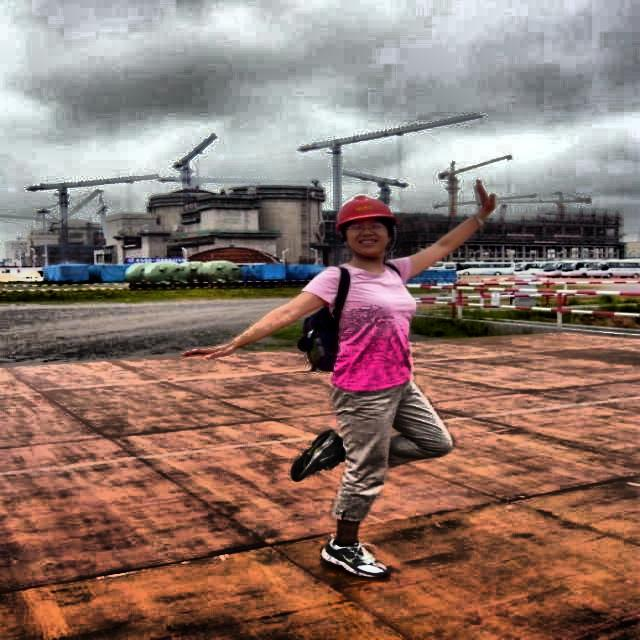hip_of_soil: (590, 342, 612, 358)
person: (275, 190, 452, 588)
